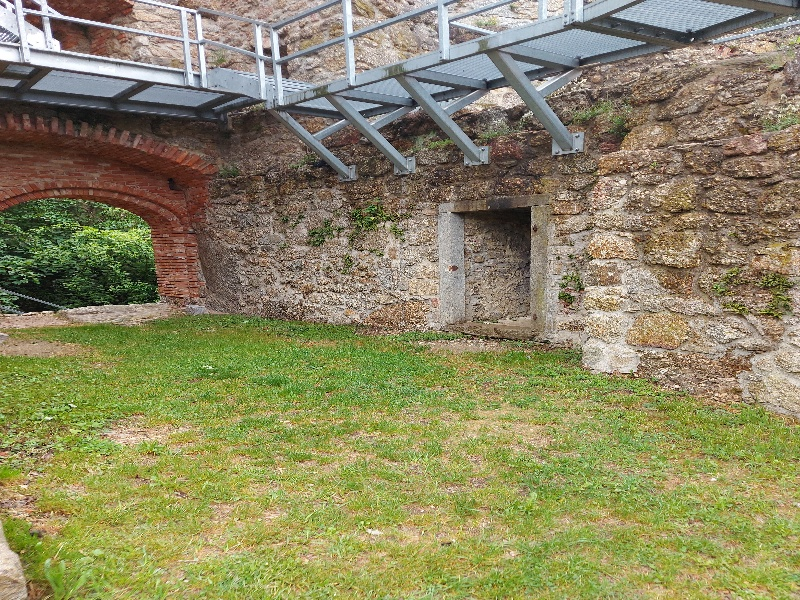door1: (427, 195, 553, 346)
